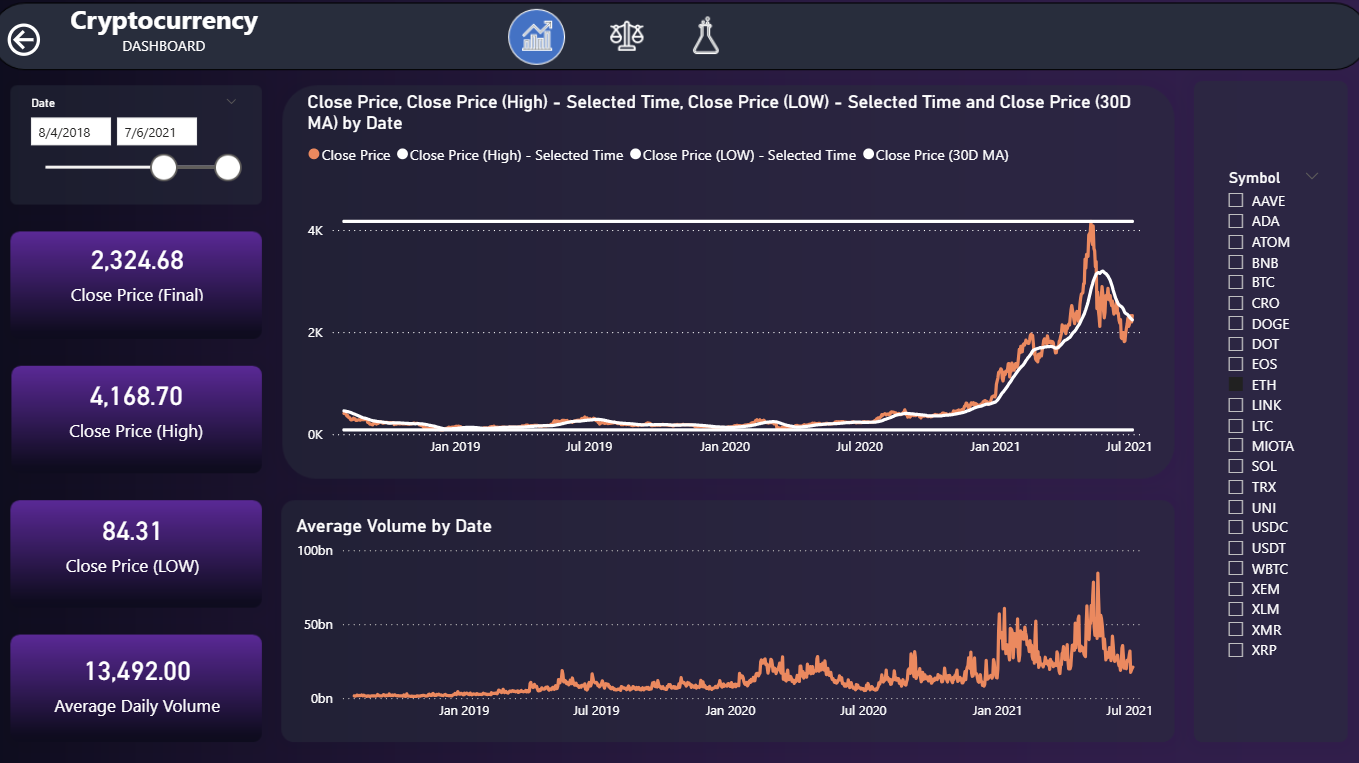

The dashboard page shown, as its layout file describes it:
{"tool":"powerbi","page":{"name":"Cryptocurrency Dashboard","canvas":[1280,720],"ordinal":1},"visuals":[{"type":"lineChart","fields":{"Category":["Dates.Date"],"Y":["Key Measures.Close Price","Key Measures.Close Price (High) - Selected Time","Key Measures.Close Price (LOW) - Selected Time","Key Measures.Close Price (30D MA)"]},"box":[289.6,88.8,799.4,349.2],"z":0},{"type":"slicer","fields":{"Values":["Dates.Date"]},"box":[24.3,88.8,216.6,99.8],"z":1000},{"type":"card","fields":{"Values":["Key Measures.Close Price (Final)"]},"box":[40.2,222.7,191,66.9],"z":2000},{"type":"card","fields":{"Values":["Key Measures.Close Price (High)"]},"box":[34.1,343.1,203.2,79.1],"z":3000},{"type":"card","fields":{"Values":["Key Measures.Close Price (LOW)"]},"box":[30.4,469.7,203.2,75.4],"z":4000},{"type":"lineChart","fields":{"Category":["Dates.Date"],"Y":["Key Measures.Average Volume"]},"box":[278.6,483,810.3,200.8],"z":5000},{"type":"card","fields":{"Values":["Key Measures.Average Daily Volume"]},"box":[28,599.8,216.6,75.4],"z":6000},{"type":"slicer","fields":{"Values":["Crypto symbols.Symbol"]},"box":[1138.9,155.7,109.5,469.7],"z":7000},{"type":"textbox","box":[60.8,0,200.8,68.1],"z":8000},{"type":"actionButton","box":[548.7,14.6,81.5,53.5],"z":9000},{"type":"actionButton","box":[640,14.6,66.9,53.5],"z":10000},{"type":"actionButton","box":[11,7.3,40.2,68.1],"z":11000},{"type":"actionButton","box":[11,7.3,40.2,66.9],"z":12000}]}

Visuals, with their boxes in screenshot pixels (x1, y1, x2, y2), scaled from the page's 1280x720 canvas onto the 1359x763 screenshot:
lineChart - Dates.Date x Key Measures.Close Price: x1=307 y1=94 x2=1156 y2=464
slicer - Dates.Date: x1=26 y1=94 x2=256 y2=200
card - Key Measures.Close Price (Final): x1=43 y1=236 x2=245 y2=307
card - Key Measures.Close Price (High): x1=36 y1=364 x2=252 y2=447
card - Key Measures.Close Price (LOW): x1=32 y1=498 x2=248 y2=578
lineChart - Dates.Date x Key Measures.Average Volume: x1=296 y1=512 x2=1156 y2=725
card - Key Measures.Average Daily Volume: x1=30 y1=636 x2=260 y2=716
slicer - Crypto symbols.Symbol: x1=1209 y1=165 x2=1325 y2=663
textbox: x1=65 y1=0 x2=278 y2=72
actionButton: x1=583 y1=15 x2=669 y2=72
actionButton: x1=680 y1=15 x2=751 y2=72
actionButton: x1=12 y1=8 x2=54 y2=80
actionButton: x1=12 y1=8 x2=54 y2=79
